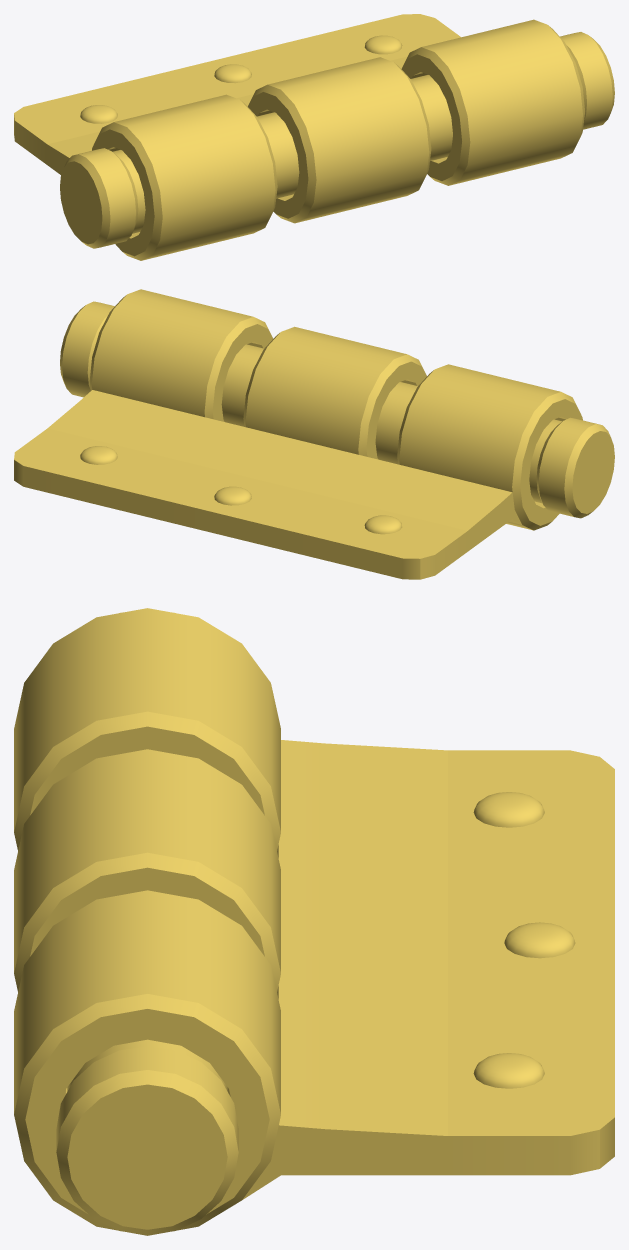
Rendered from HingeBot.fbx.
3 renders of one model, top to bottom at view 1: azimuth 30°, elevation 25°; view 2: azimuth 150°, elevation 25°; view 3: azimuth 270°, elevation 25°, orthographic. The views are drawn at different scales.
Visible parts, largest first — view 1: HingeBot; view 2: HingeBot; view 3: HingeBot.
Part boxes in pixels (bbox=[...]): HingeBot: bbox=[14, 14, 614, 260]; HingeBot: bbox=[14, 289, 614, 579]; HingeBot: bbox=[14, 608, 614, 1235].
Bounding box in the file's own units: 250 × 60 × 135.
